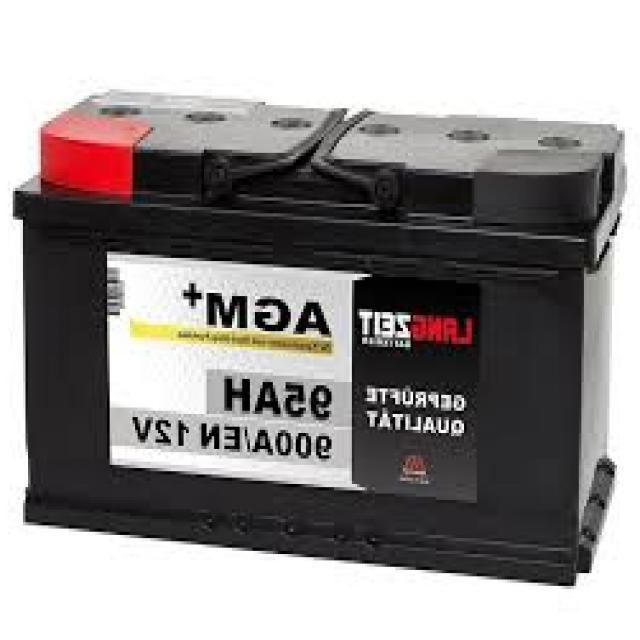battery: (11, 86, 640, 590)
